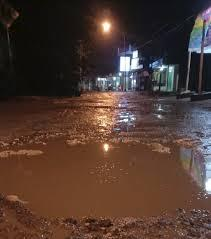Pothole: (0, 126, 211, 228), (20, 91, 206, 127)
